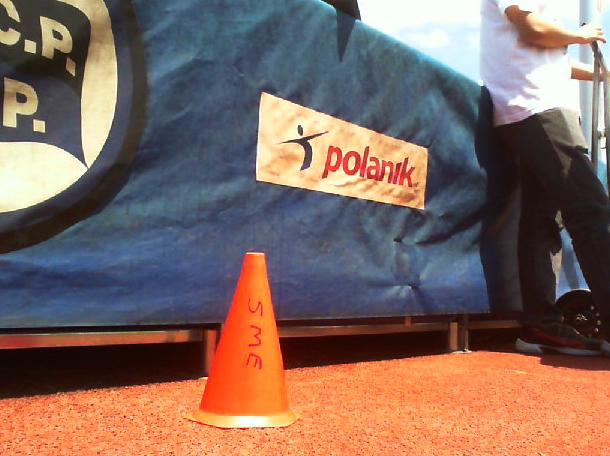0 cone: (184, 251, 301, 428)
